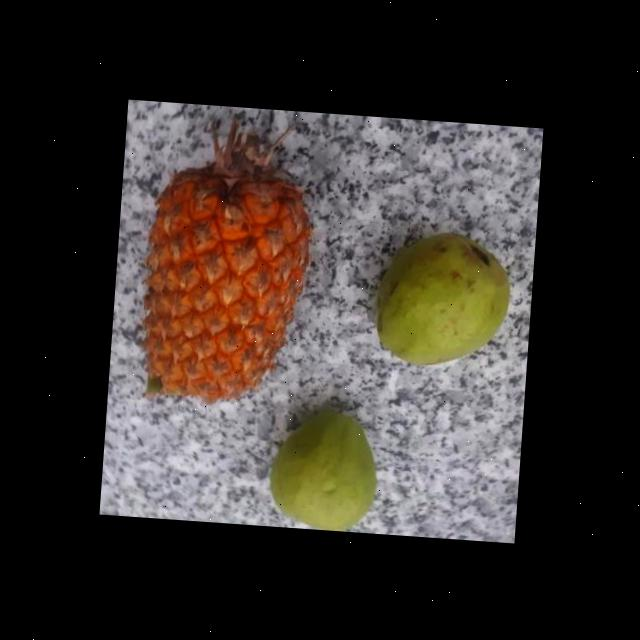guava: (364, 231, 508, 367), (262, 407, 382, 532)
pineapple: (132, 149, 316, 415)
